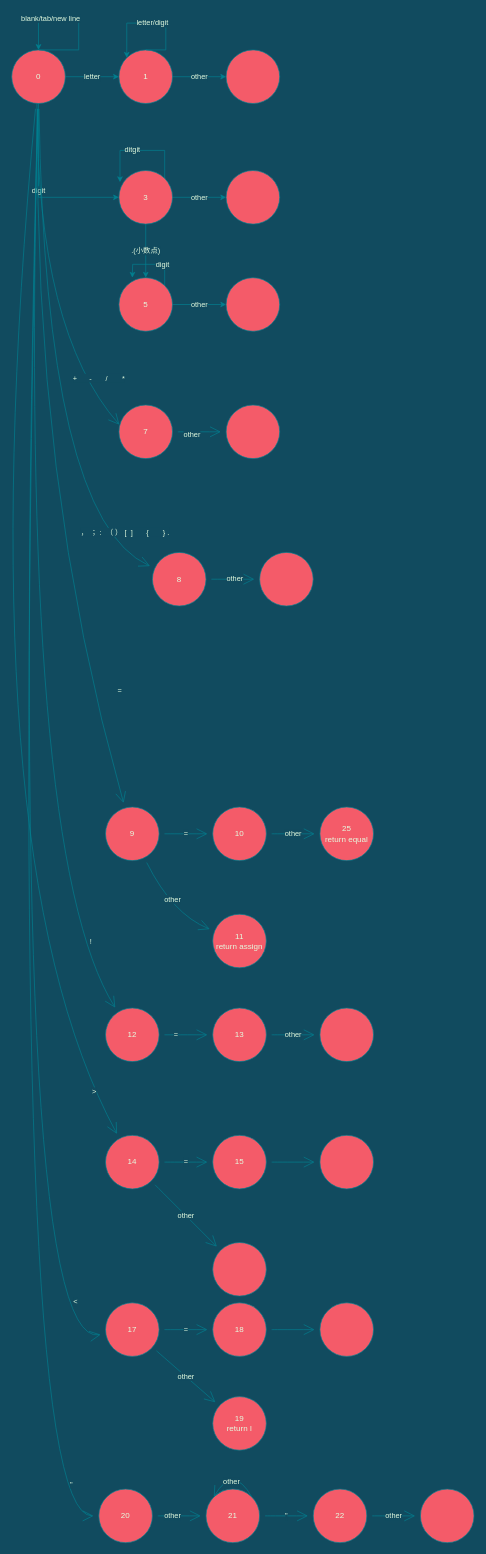
Image size: 486x1554. Some labels were removed from this diagram. The centre of each missing label's shape, as x and y in pixels:
16 return g: (239,1269)
2 return id(需要进一步匹配是否为关键字量 ): (252,76)
23 return plus: (252,431)
24 return minus: (286,579)
26 return nequal: (346,1034)
27 return ge: (346,1162)
28 return le: (346,1329)
29 return string: (447,1515)
4 return int_value: (252,197)
6 return float_value: (252,304)
